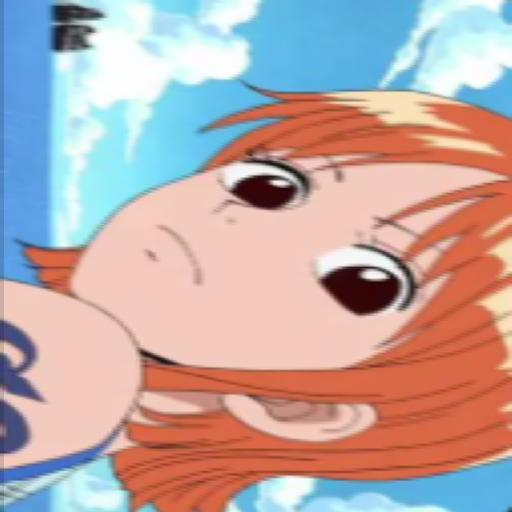Nami: (0, 78, 512, 509)
